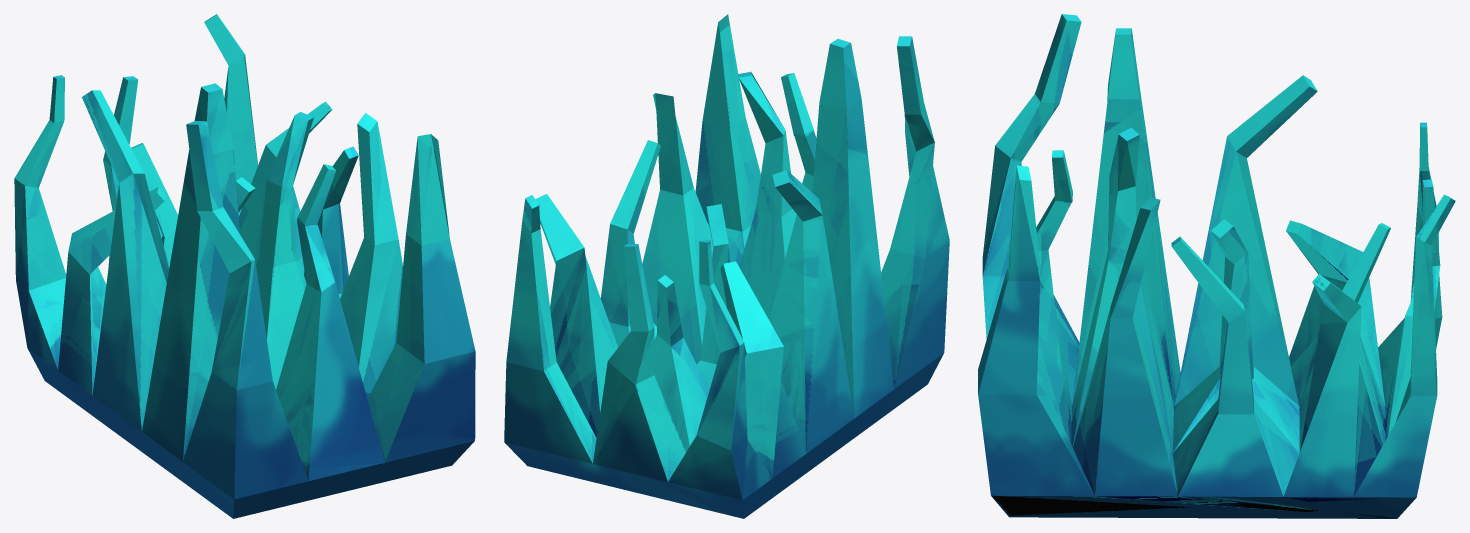
The model's file is coral2.fbx.
3 views of the same model, side by side, from view 1: azimuth 30°, elevation 25°; view 2: azimuth 150°, elevation 25°; view 3: azimuth 270°, elevation 25° (orthographic). The views are drawn at different scales.
Parts seen in each view (by area): view 1: Cube; view 2: Cube; view 3: Cube.
Part boxes in pixels (<box>): Cube: <box>14,14,475,518</box>; Cube: <box>504,14,949,518</box>; Cube: <box>978,14,1455,518</box>.
Size of the model in its own units: 260 by 357 by 393.
